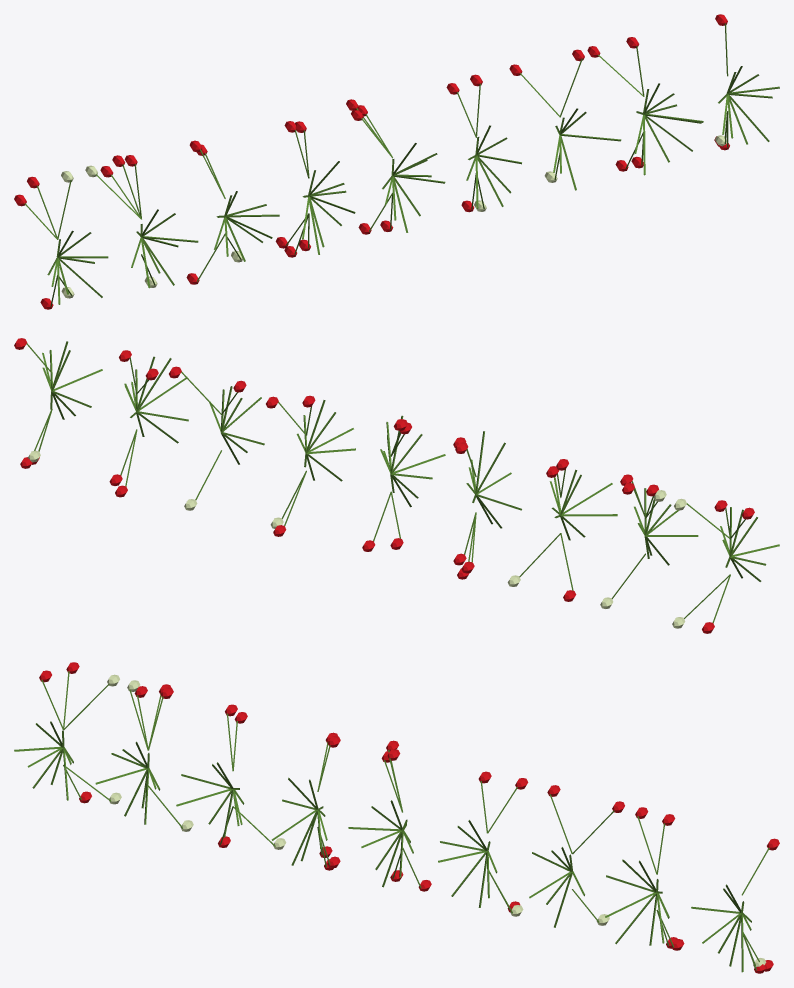
Rendered from r0c1_rest.obj.
3 renders of one model, top to bottom at view 1: azimuth 30°, elevation 25°; view 2: azimuth 150°, elevation 25°; view 3: azimuth 330°, elevation 25°, orthographic.
Visible parts, largest first — view 1: r0c1_rest; view 2: r0c1_rest; view 3: r0c1_rest.
Part boxes in pixels (x1,y1,x2,y2): r0c1_rest: (14,14,779,309); r0c1_rest: (14,338,779,633); r0c1_rest: (14,662,779,973).
Size of the model in its own units: 2.19 by 0.4017 by 0.2558.
